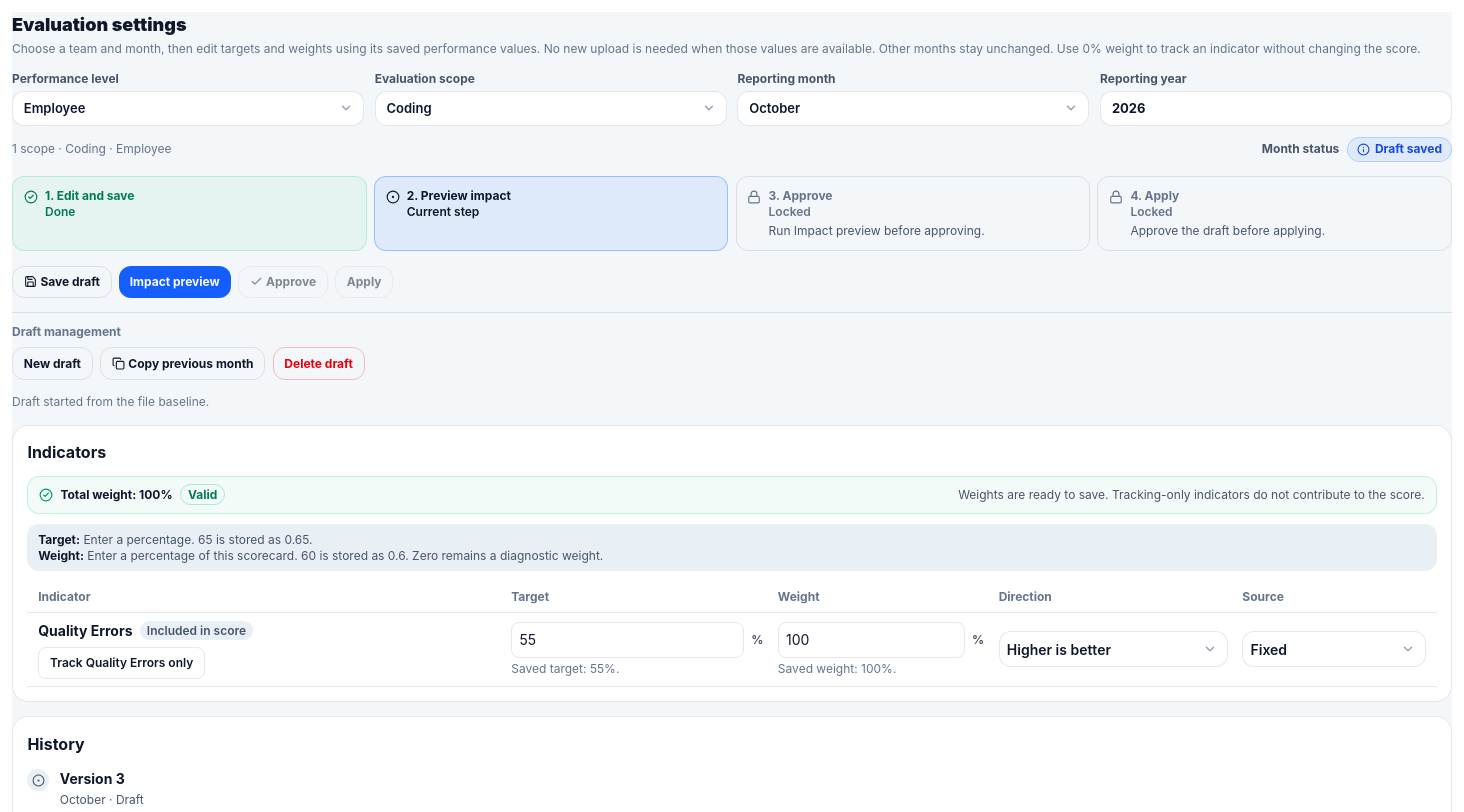
Test: clears proof and keeps the target when approval reports a stale preview
What coordinates should you click on to do the following:
click the button "Impact preview"
I would click on:
 (175, 282)
Its box is [119,266,230,298].
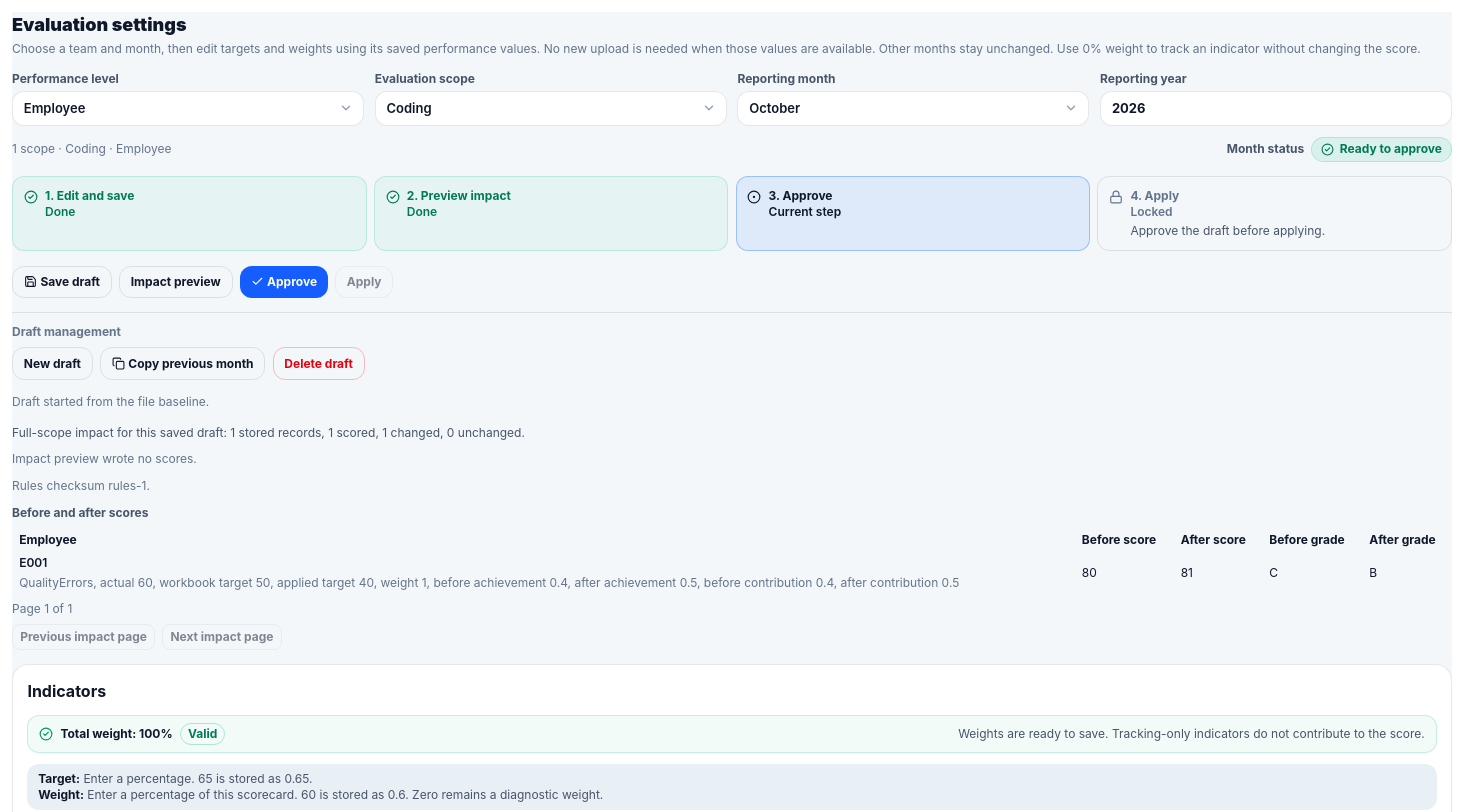
Result: the button "Approve" is enabled
What coordinates should you click on to do the following:
click the button "Approve"
I would click on:
 (284, 282)
Its box is [240,266,328,298].
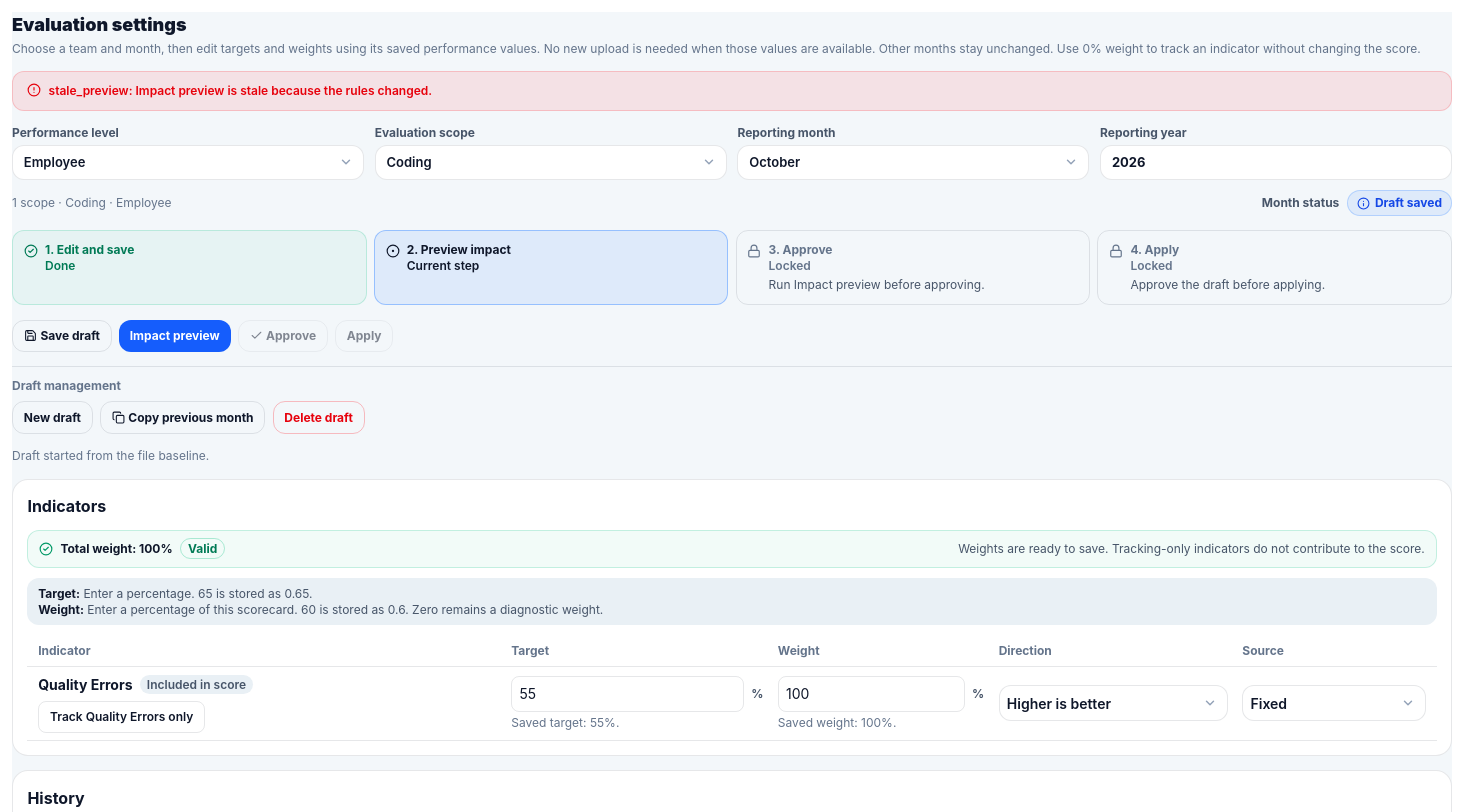
Result: the message "stale_preview: Impact preview is stale because the rules changed." is shown at [12,71,1452,111]
Result: the column heading "E001" is gone
Result: the button "Approve" is disabled at [238,320,328,352]
